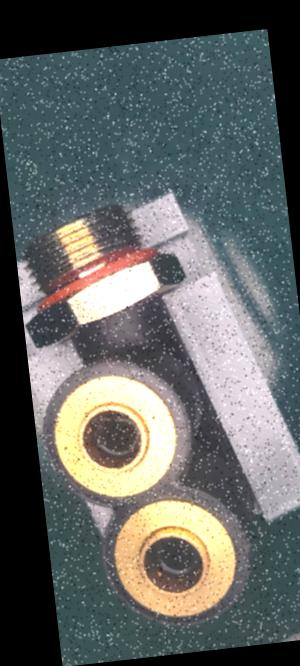bump: (239, 536, 260, 575)
off-centered: (83, 411, 144, 461)
white mark: (95, 320, 121, 337)
